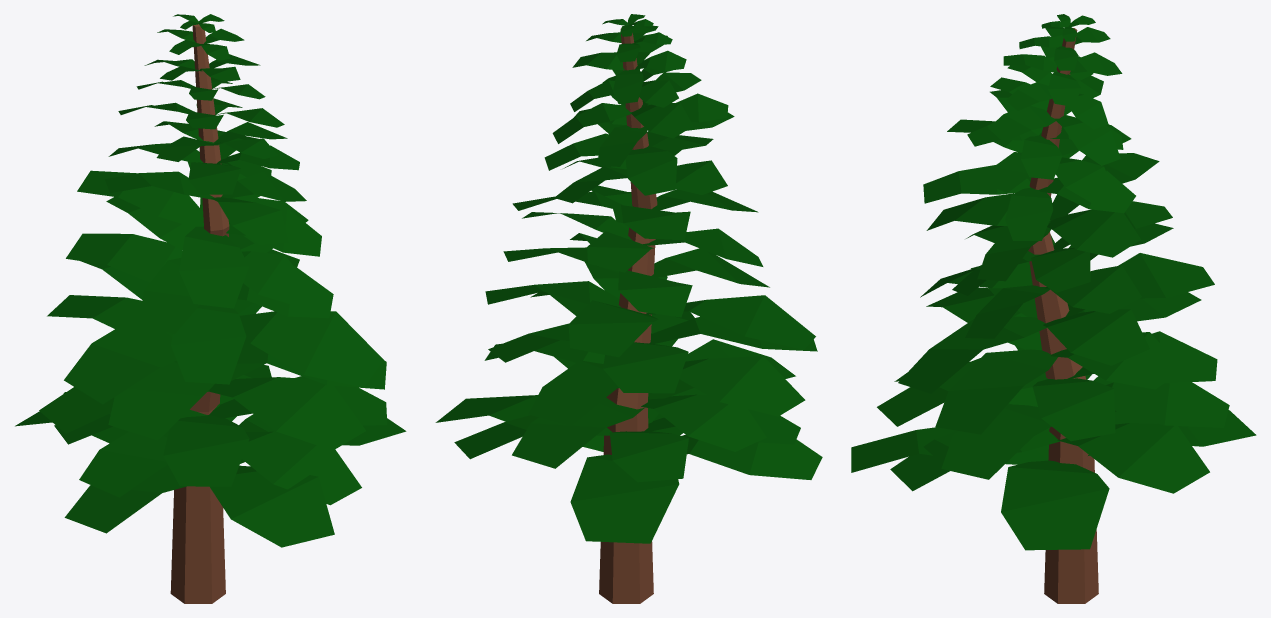
File: le tree.fbx
3 views of the same model, side by side, from view 1: azimuth 30°, elevation 25°; view 2: azimuth 150°, elevation 25°; view 3: azimuth 270°, elevation 25° (orthographic).
Parts seen in each view (by area): view 1: Cylinder.006, Cylinder.029, Cylinder.017, Cylinder.007, Cylinder.028, Cylinder.011, Cylinder.020, Cylinder.033, Cylinder.024, Cylinder.041, Cylinder.019, Cylinder.032 (+26 smaller); view 2: Cylinder.006, Cylinder.009, Cylinder.016, Cylinder.014, Cylinder.028, Cylinder.013, Cylinder.010, Cylinder.015, Cylinder.022, Cylinder.023, Cylinder.027, Cylinder.032 (+33 smaller); view 3: Cylinder.008, Cylinder.006, Cylinder.021, Cylinder.025, Cylinder.012, Cylinder.018, Cylinder.013, Cylinder.030, Cylinder.029, Cylinder.039, Cylinder.027, Cylinder.026 (+31 smaller).
Part boxes in pixels (box(x1,y1,x2,y2)): Cylinder.006: box(170, 24, 229, 603); Cylinder.029: box(239, 311, 383, 387); Cylinder.017: box(208, 377, 365, 450); Cylinder.007: box(210, 465, 334, 547); Cylinder.028: box(64, 314, 176, 404); Cylinder.011: box(163, 415, 249, 486); Cylinder.020: box(242, 431, 361, 505); Cylinder.033: box(171, 304, 246, 384); Cylinder.024: box(108, 360, 214, 440); Cylinder.041: box(179, 226, 248, 308); Cylinder.019: box(79, 429, 169, 497); Cylinder.032: box(66, 233, 182, 282); Cylinder.006: box(599, 28, 657, 603); Cylinder.009: box(570, 454, 679, 543); Cylinder.016: box(679, 356, 805, 416); Cylinder.014: box(641, 394, 766, 451); Cylinder.028: box(646, 295, 815, 349); Cylinder.013: box(512, 397, 644, 468); Cylinder.010: box(682, 434, 822, 479); Cylinder.015: box(528, 360, 618, 425); Cylinder.022: box(609, 431, 688, 482); Cylinder.023: box(603, 342, 688, 393); Cylinder.027: box(568, 300, 658, 357); Cylinder.032: box(618, 270, 692, 317); Cylinder.008: box(1001, 460, 1109, 550); Cylinder.006: box(1028, 28, 1098, 603); Cylinder.021: box(1057, 423, 1209, 493); Cylinder.025: box(935, 349, 1057, 434); Cylinder.012: box(941, 404, 1051, 479); Cylinder.018: box(1032, 378, 1115, 441); Cylinder.013: box(1106, 382, 1229, 427); Cylinder.030: box(1043, 309, 1149, 365); Cylinder.029: box(898, 316, 1046, 393); Cylinder.039: box(1047, 209, 1140, 257); Cylinder.027: box(1066, 253, 1214, 316); Cylinder.026: box(1051, 332, 1183, 389).
Bounding box in the file's own units: 307 × 491 × 316.
